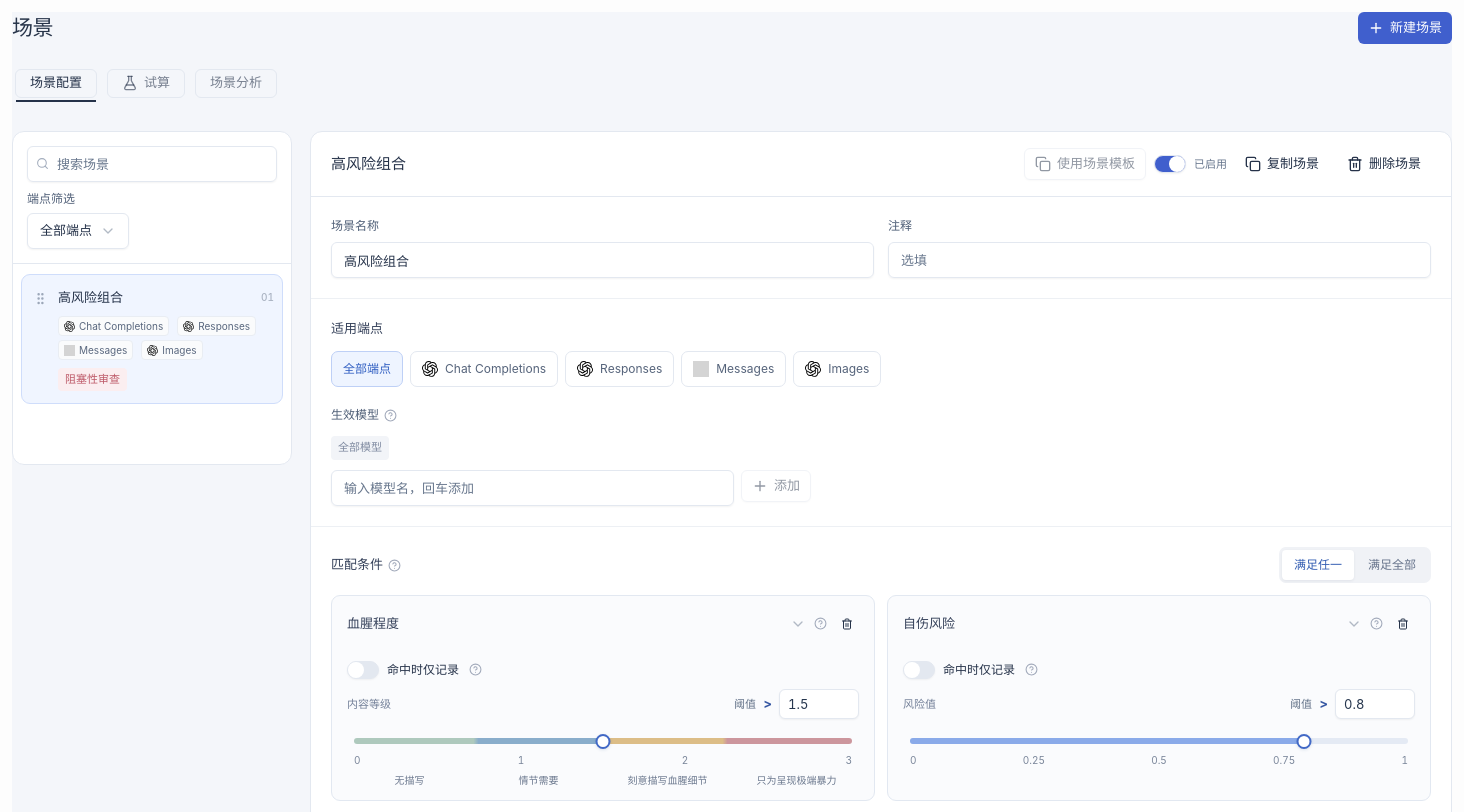
Test case: keeps the graded slider and precise decimal threshold synchronized
Replace the text in the number field named "血腥程度阈值" with "1.75": (819, 704) [779, 689, 859, 719]
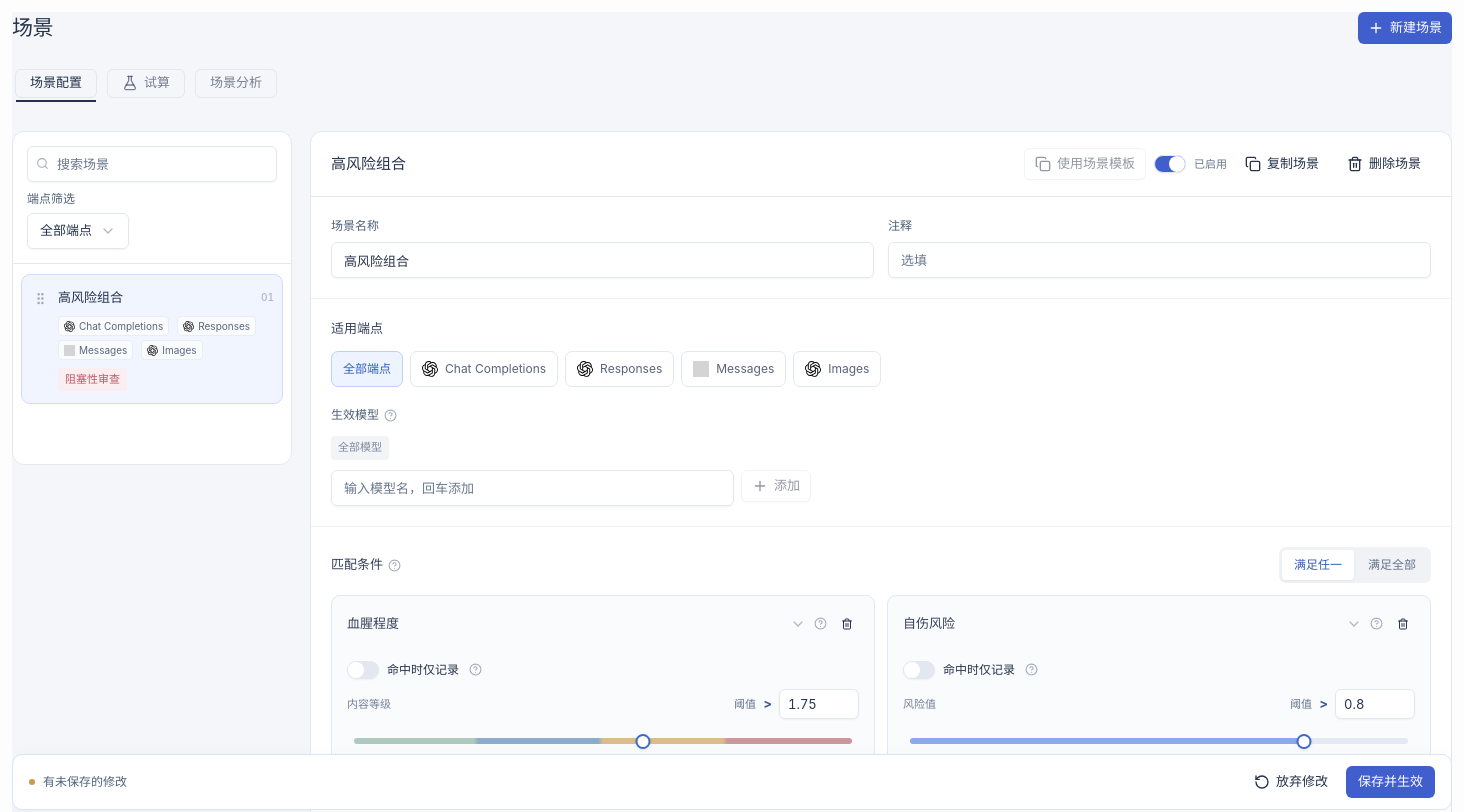
expect the slider named "血腥程度阈值滑杆" has attribute aria-valuenow="1.75": met
Press ArrowRight in the slider named "血腥程度阈值滑杆", box [636, 734, 651, 749]
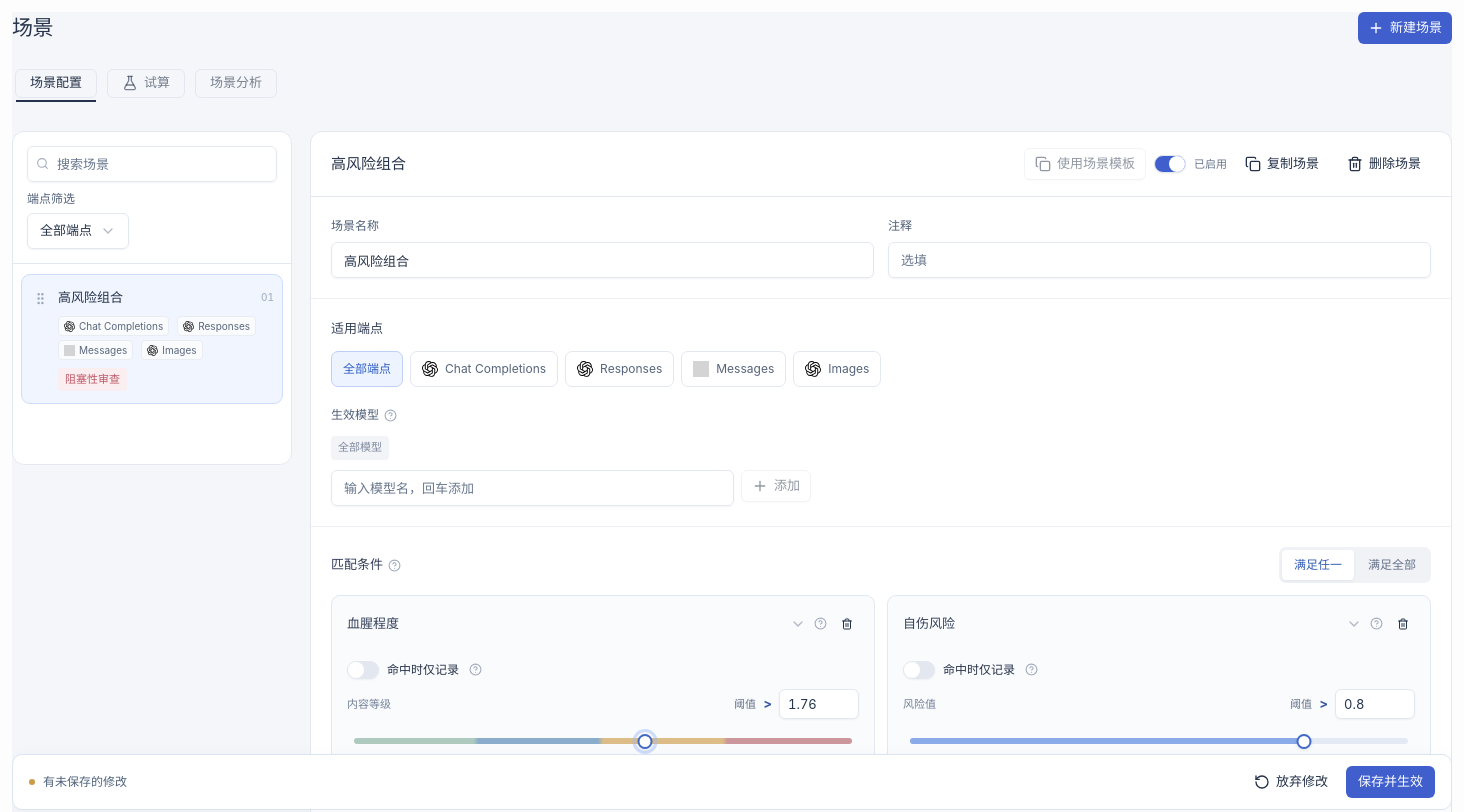
expect the number field named "血腥程度阈值" holds "1.76": met, box [779, 689, 859, 719]
